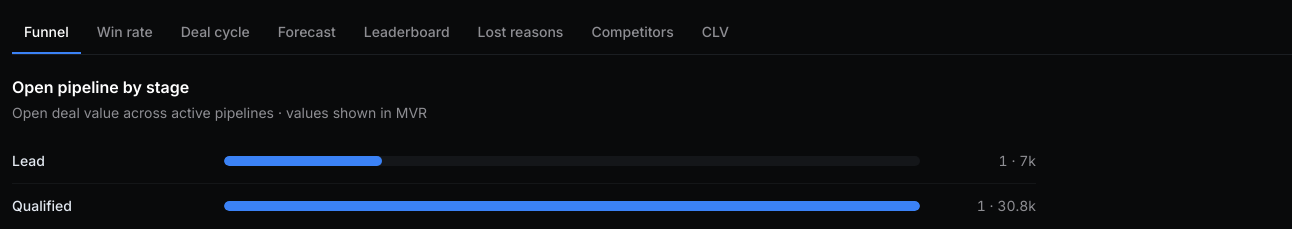
Test: Reports page › updates the active tab and panel when another report is selected
The width and height of the screenshot is (1292, 229).
Click the tab "Forecast" at (307, 33), box [266,12,348,54]
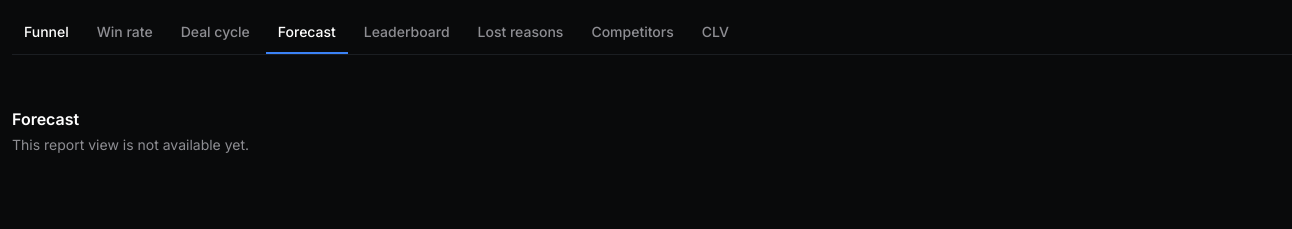
Result: the text "This report view is not available yet." is shown at [12,136,249,153]
